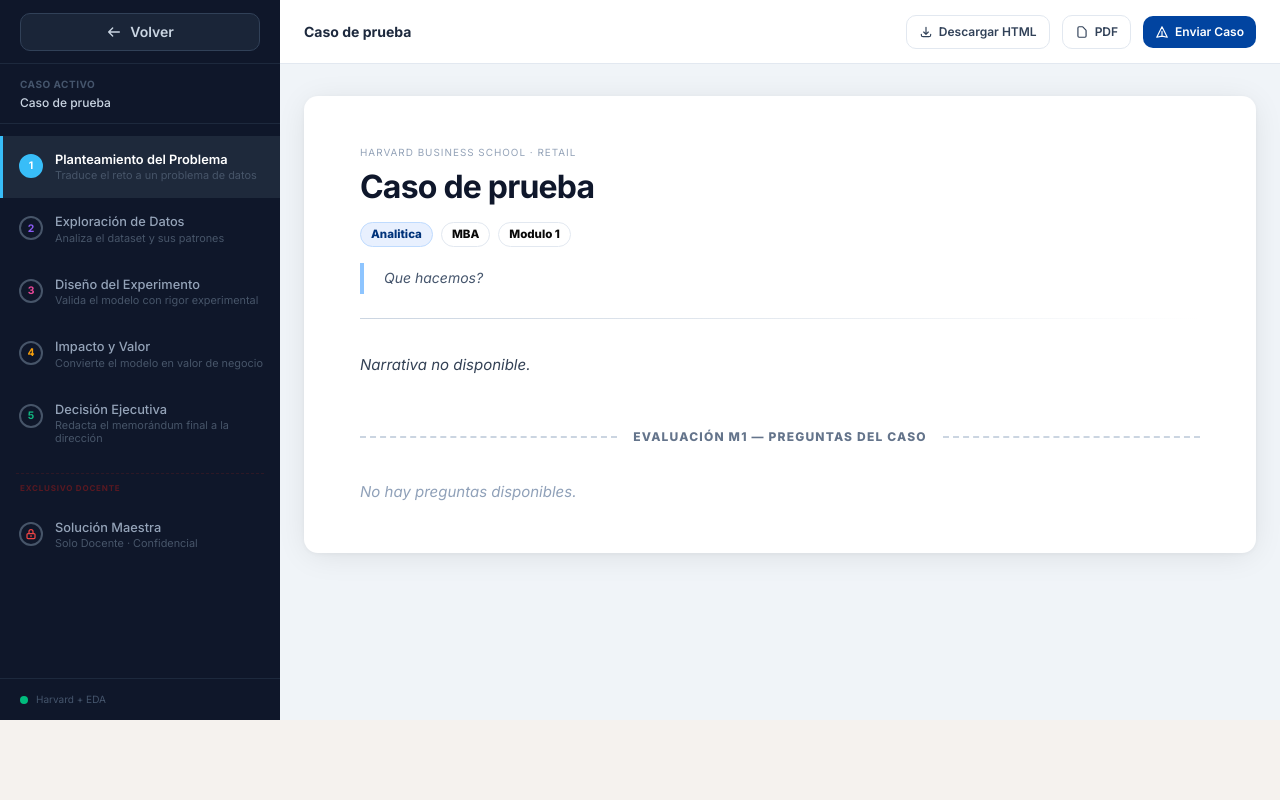
Test case: CasePreview Enviar Caso button › [T3] confirming: clicking Cancelar returns to idle
This screenshot has width=1280, height=800.
Click the button "Enviar Caso". click: (1200,32)
box: [1143,16,1256,48]
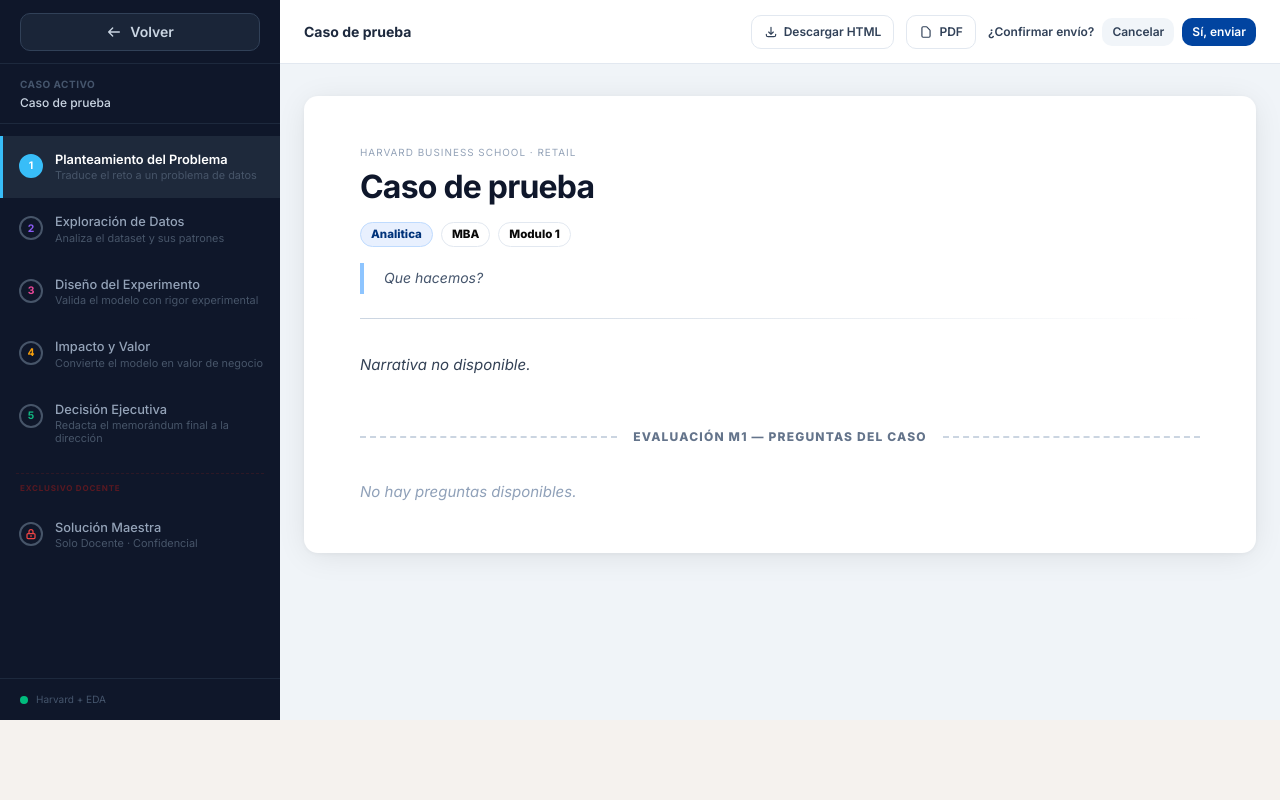
Expected: the text "¿Confirmar envío?" is shown, [988,24,1094,40]
Click the button "Cancelar". click: (1138,32)
box: [1102,18,1174,46]
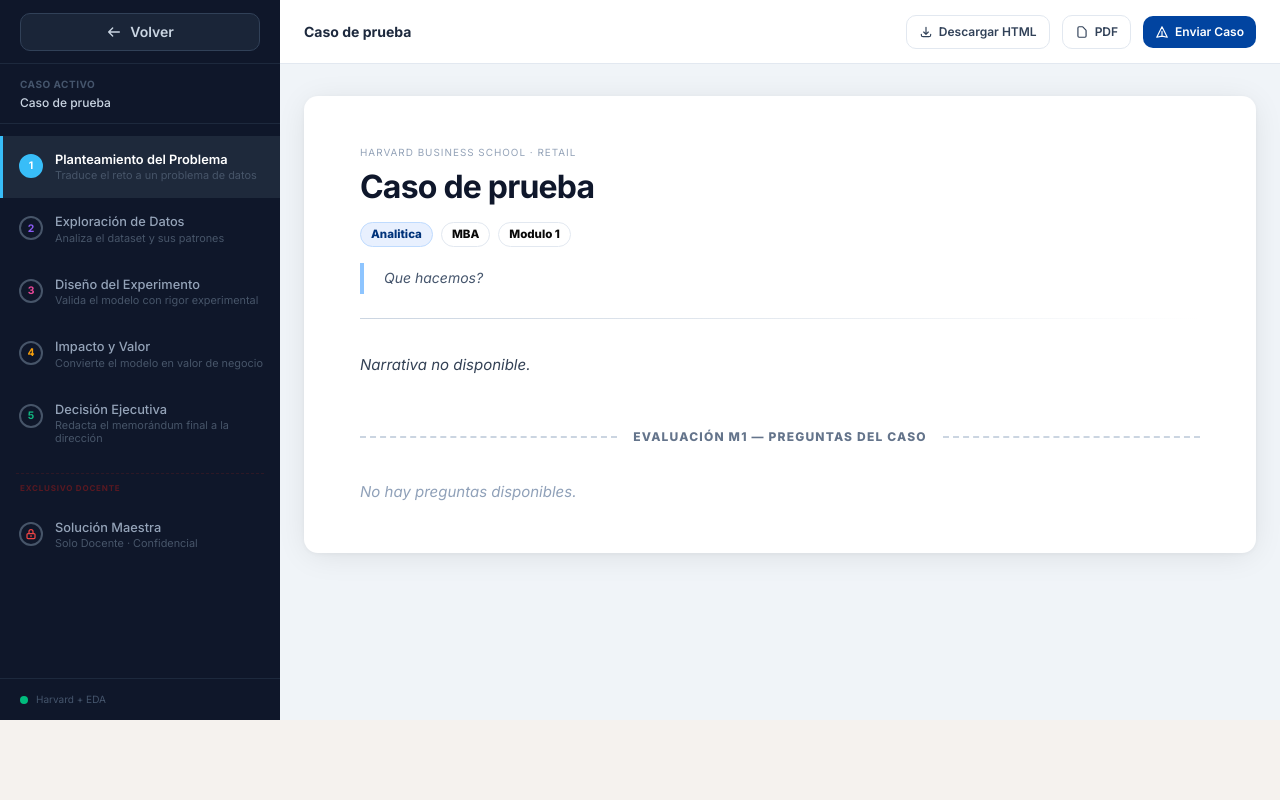
Expected: the text "¿Confirmar envío?" is gone
Expected: the button "Enviar Caso" is shown, [1143,16,1256,48]
